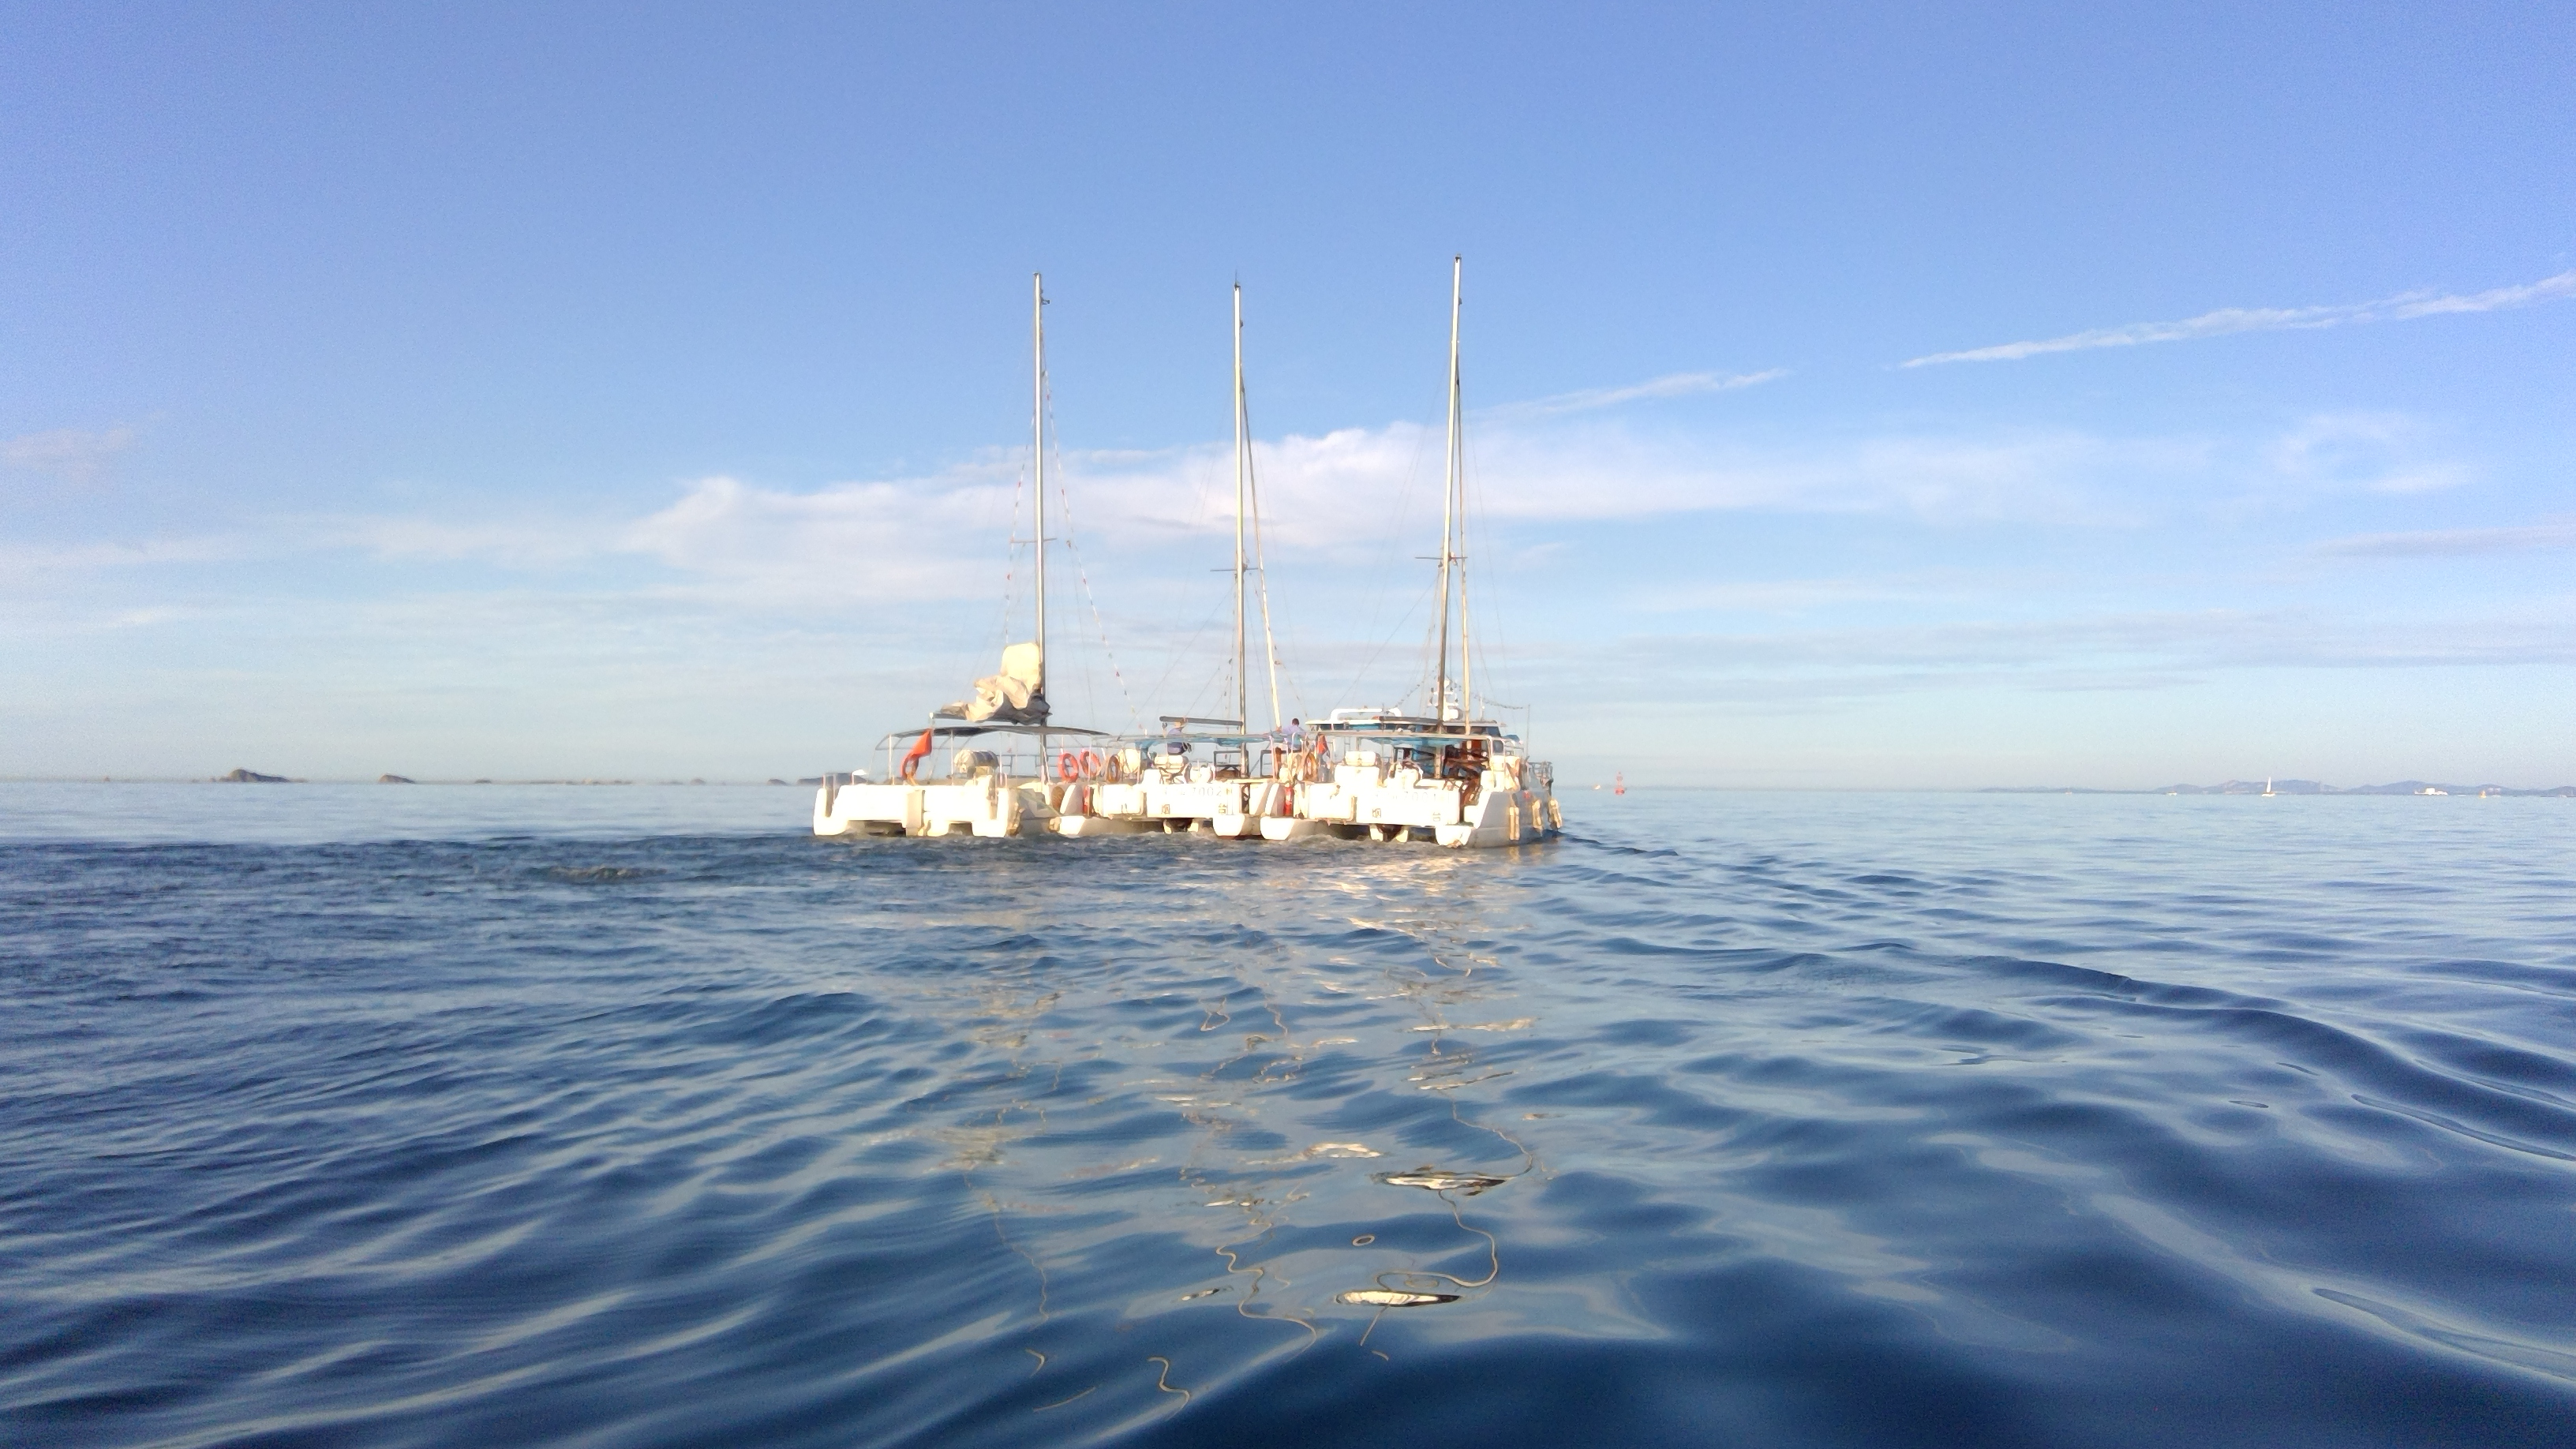boat: (768, 237, 1127, 870), (1327, 189, 1575, 920), (1136, 216, 1318, 911)
